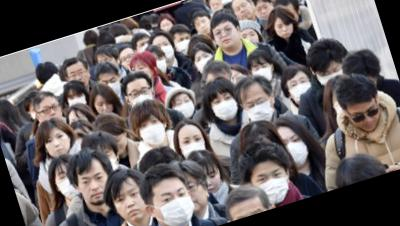with_mask: (151, 183, 201, 226), (249, 163, 295, 209), (242, 92, 277, 127), (136, 114, 169, 149), (282, 132, 312, 170), (209, 90, 241, 125), (53, 165, 82, 203), (176, 130, 208, 160), (286, 73, 315, 104), (314, 62, 347, 87), (169, 92, 197, 121), (126, 83, 156, 109), (250, 59, 275, 85), (154, 37, 177, 63), (99, 74, 122, 97), (172, 33, 194, 56), (66, 89, 89, 110), (153, 54, 170, 75)
without_mask: (110, 183, 150, 226), (77, 169, 115, 209), (347, 101, 386, 137), (184, 175, 211, 213), (211, 20, 243, 52), (42, 128, 74, 159), (66, 66, 92, 93), (37, 100, 65, 125), (202, 166, 226, 194), (92, 95, 116, 118), (252, 0, 275, 22), (273, 18, 295, 41), (193, 15, 214, 37), (119, 50, 138, 69), (241, 27, 260, 46)
